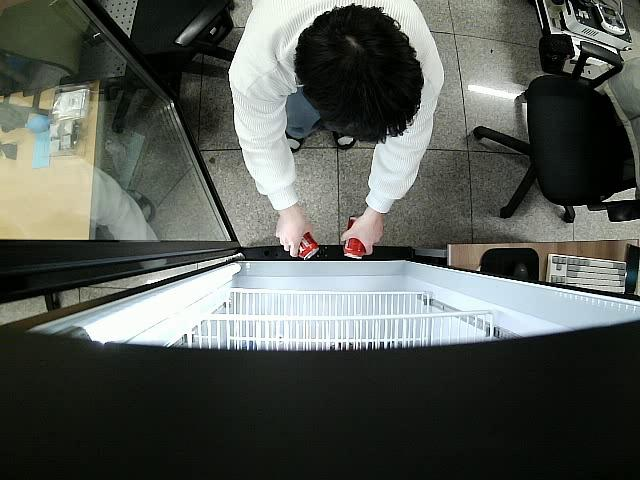00_hand: (341, 208, 385, 255), (275, 211, 314, 257)
11_cocaColaZero: (344, 214, 369, 261), (296, 233, 320, 260)
